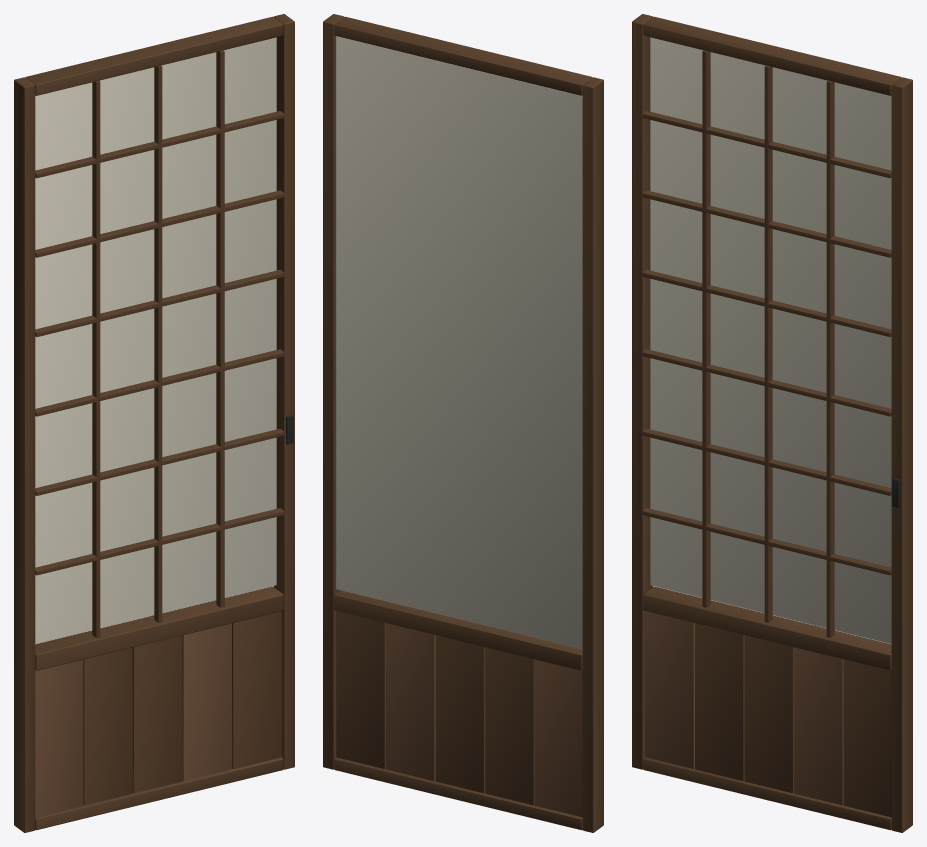
File: kominka-door-shoji-01.glb
3 views of the same model, side by side, from view 1: azimuth 30°, elevation 25°; view 2: azimuth 150°, elevation 25°; view 3: azimuth 330°, elevation 25° (orthographic).
Parts seen in each view (by area): view 1: kominka-door-shoji-01; view 2: kominka-door-shoji-01; view 3: kominka-door-shoji-01.
Part boxes in pixels (x1,y1,x2,y2): kominka-door-shoji-01: (14, 14, 294, 832); kominka-door-shoji-01: (323, 14, 603, 832); kominka-door-shoji-01: (632, 14, 912, 832).
Size of the model in its own units: 0.76 by 2 by 0.06.
